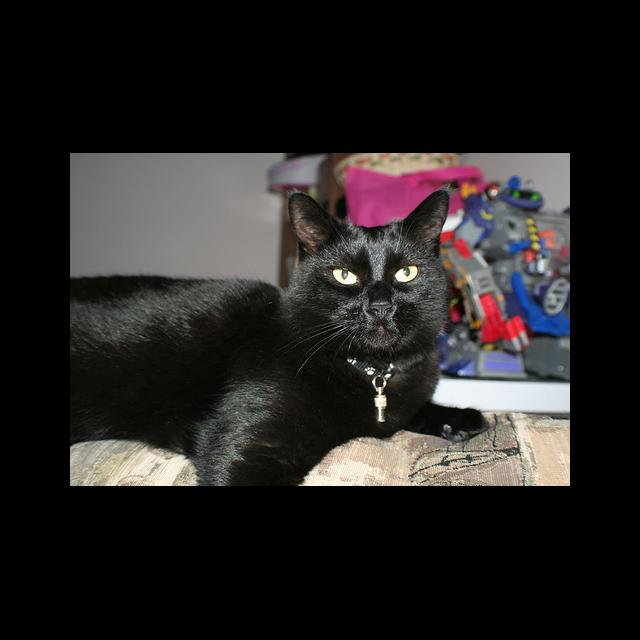animals: (293, 192, 443, 316)
